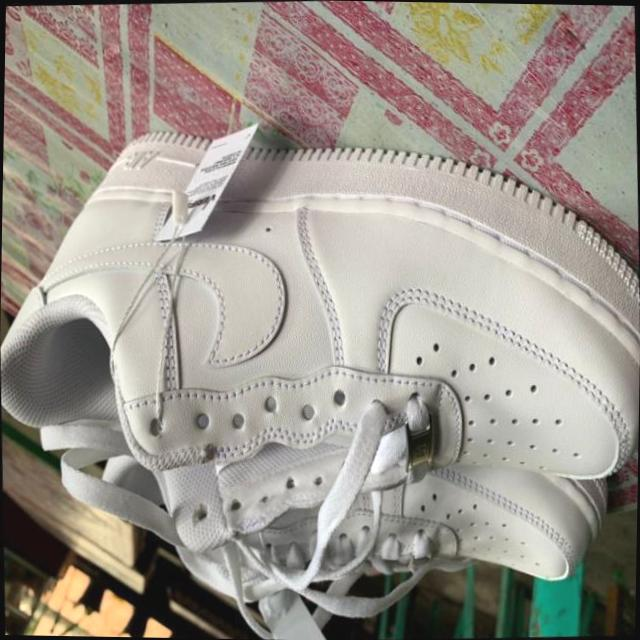nike_original_airforce: (0, 112, 640, 562), (55, 452, 618, 634)
